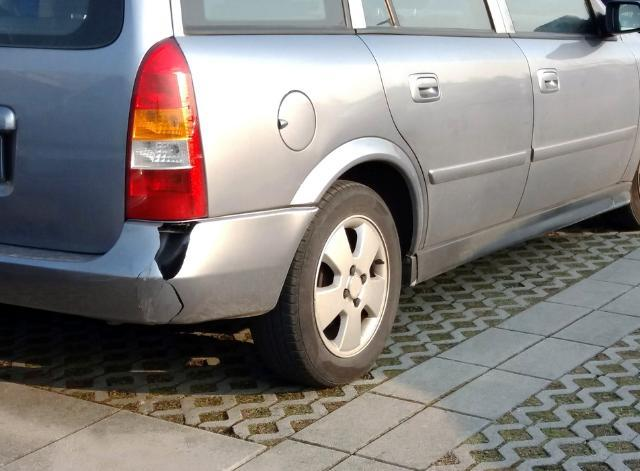Bumper: (127, 224, 211, 343)
